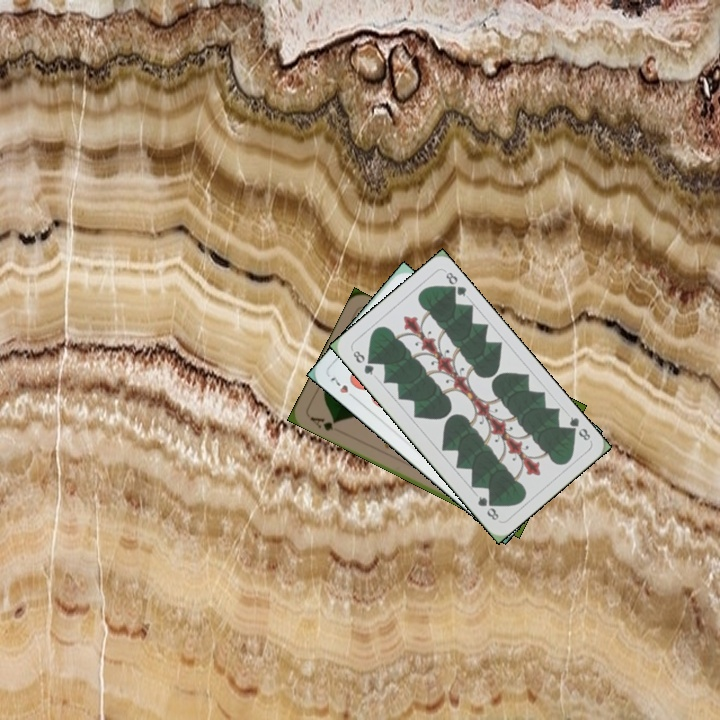G8: (563, 412, 593, 443), (349, 346, 377, 378)
GA: (306, 412, 339, 434)
H7: (326, 373, 359, 402)
